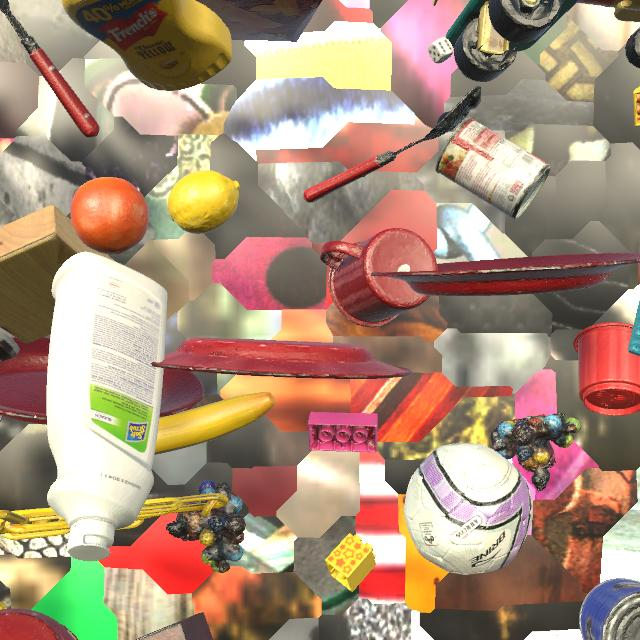ycb_002_master_chef_can: (579, 578, 640, 640)
ycb_003_cracker_box: (196, 0, 323, 42)
ycb_005_tomato_soup_can: (435, 117, 551, 219)
ycb_006_mustard_bottle: (61, 0, 232, 91)
ycb_011_banana: (155, 392, 275, 455)
ycb_014_lemon: (168, 170, 240, 234)
ycb_017_orange: (70, 177, 149, 255)
